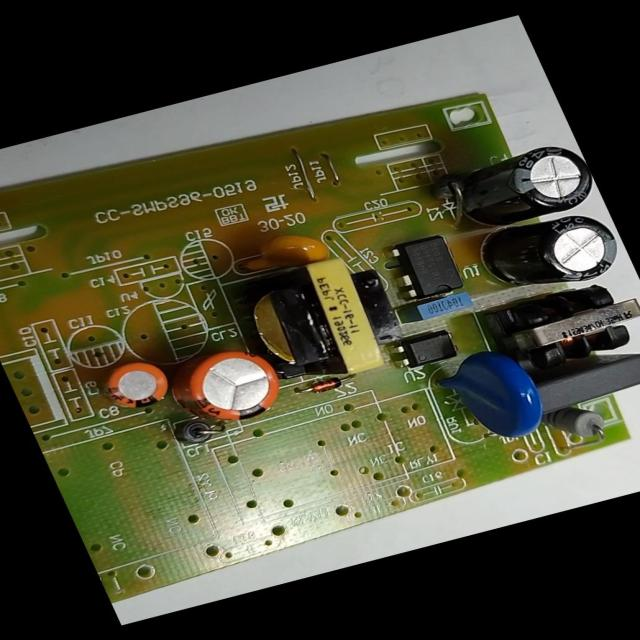Cap1: (168, 338, 294, 430)
Cap2: (95, 353, 177, 414)
Cap3: (469, 200, 633, 304)
Cap4: (446, 138, 603, 232)
MOSFET: (386, 232, 470, 302)
Mov: (431, 342, 556, 450)
Resistor: (549, 402, 612, 447)
Transformer: (228, 248, 418, 393), (488, 274, 639, 380)
